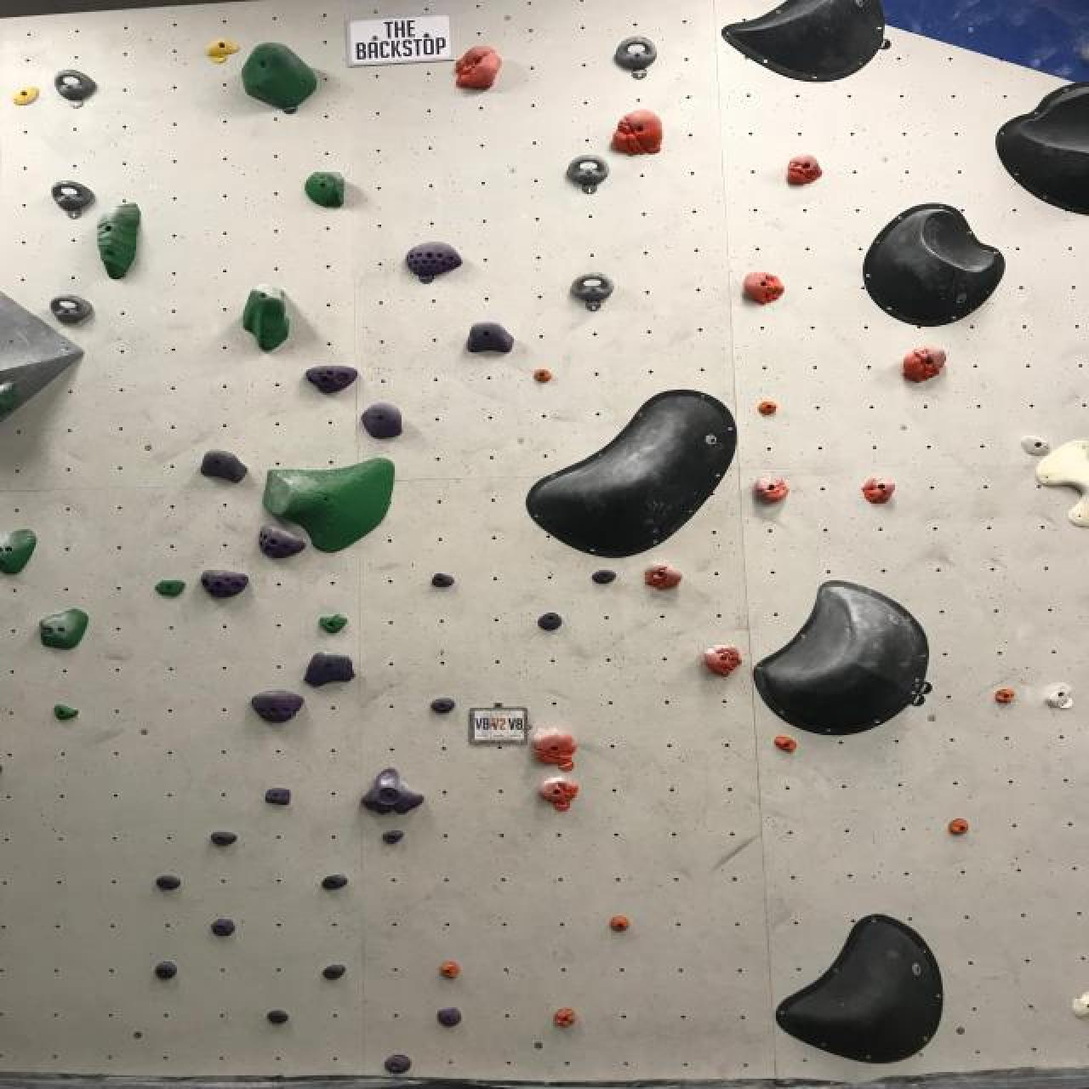hold: (526, 390, 737, 558), (754, 580, 930, 735), (776, 915, 943, 1063), (864, 203, 1005, 326), (722, 0, 885, 82), (263, 457, 394, 552), (995, 83, 1088, 214), (242, 43, 319, 112), (1035, 440, 1088, 527), (97, 204, 140, 278), (242, 290, 291, 351), (361, 768, 423, 814), (610, 110, 662, 156), (406, 242, 462, 282), (454, 46, 501, 91), (530, 727, 577, 771), (40, 608, 88, 650), (899, 346, 946, 384), (250, 691, 304, 724), (304, 653, 355, 687), (0, 529, 37, 575), (305, 364, 357, 395), (614, 37, 657, 74), (53, 180, 94, 218), (571, 274, 613, 311), (567, 156, 608, 193), (466, 322, 513, 354), (200, 451, 247, 482), (305, 172, 345, 208), (260, 527, 305, 558), (200, 570, 248, 599), (362, 404, 402, 438), (539, 777, 579, 811), (743, 272, 784, 305), (50, 295, 93, 326), (700, 646, 742, 677), (55, 70, 96, 101), (786, 155, 821, 185), (752, 477, 789, 505), (644, 564, 681, 590), (862, 477, 895, 505), (1042, 684, 1073, 710), (208, 39, 238, 62), (318, 613, 347, 634), (155, 579, 185, 598), (385, 1054, 412, 1075), (552, 1007, 577, 1029), (1022, 436, 1049, 456), (210, 918, 236, 938), (0, 383, 14, 418), (155, 874, 182, 892), (321, 873, 348, 891), (437, 1007, 461, 1027), (14, 86, 39, 105), (537, 613, 562, 632), (265, 787, 291, 805), (438, 960, 461, 980), (773, 735, 798, 753), (154, 961, 177, 980), (54, 703, 78, 721), (210, 831, 237, 847), (430, 698, 455, 715), (756, 397, 778, 416), (607, 915, 631, 932), (322, 963, 346, 980), (1073, 991, 1088, 1018), (993, 687, 1016, 704), (591, 569, 617, 584), (947, 818, 969, 835), (430, 573, 454, 588), (265, 1009, 289, 1024), (381, 830, 403, 845), (532, 368, 553, 383)
volume: (0, 289, 87, 429)
